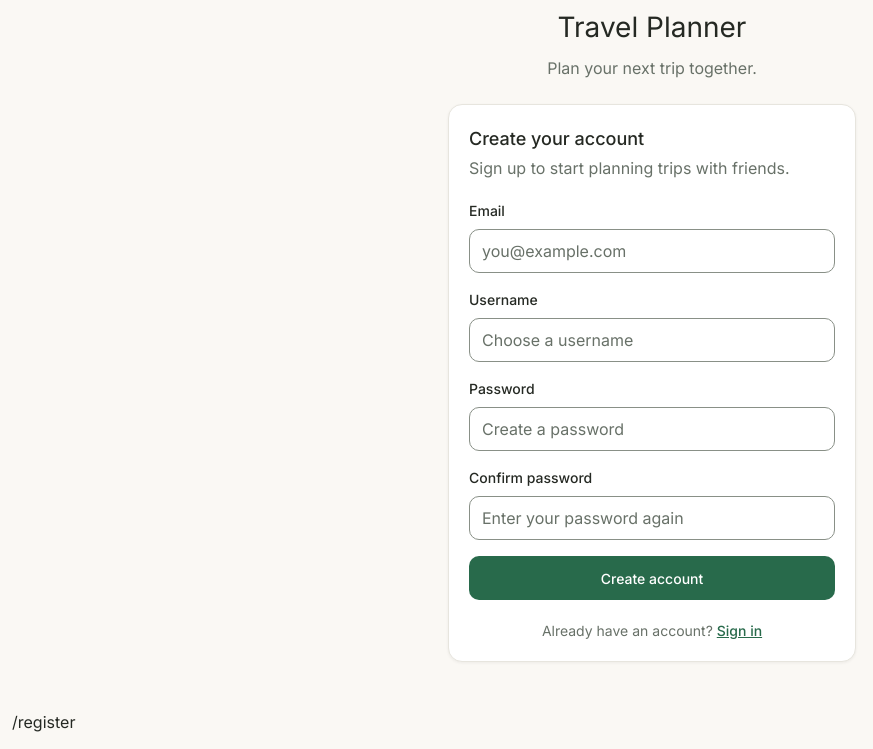
Test: navigates to login from the registration page
Check: the heading "Create your account" is shown, box left=469, top=128, right=644, bottom=149
Click the button "Sign in". click: (740, 630)
box: left=717, top=620, right=762, bottom=641
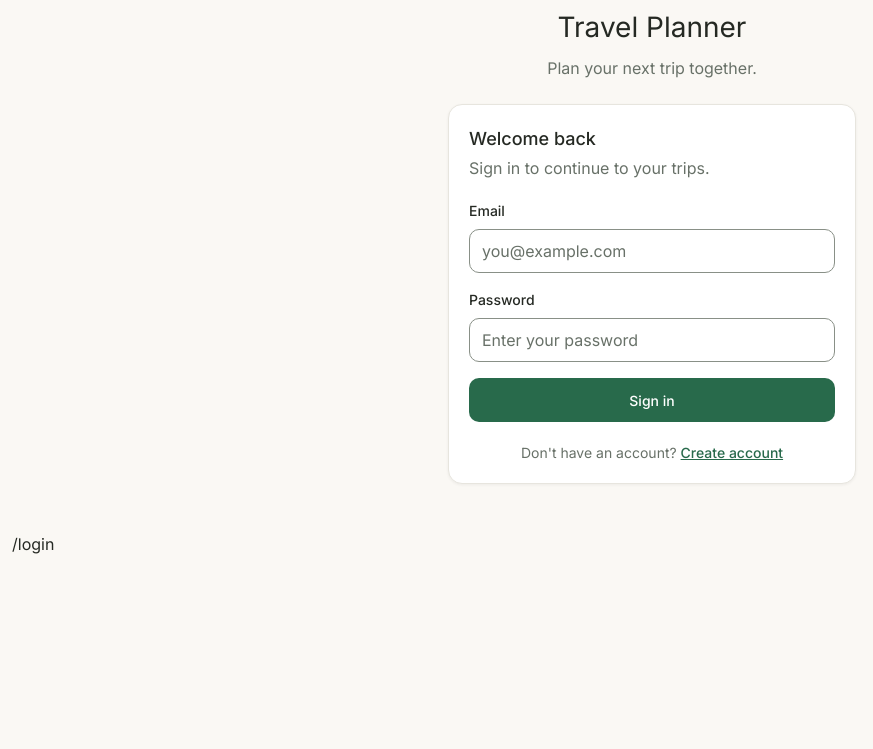
Check: the heading "Welcome back" is shown, box left=469, top=128, right=596, bottom=149
Check: the text named "Current path" reads "/login", box left=12, top=534, right=54, bottom=554
